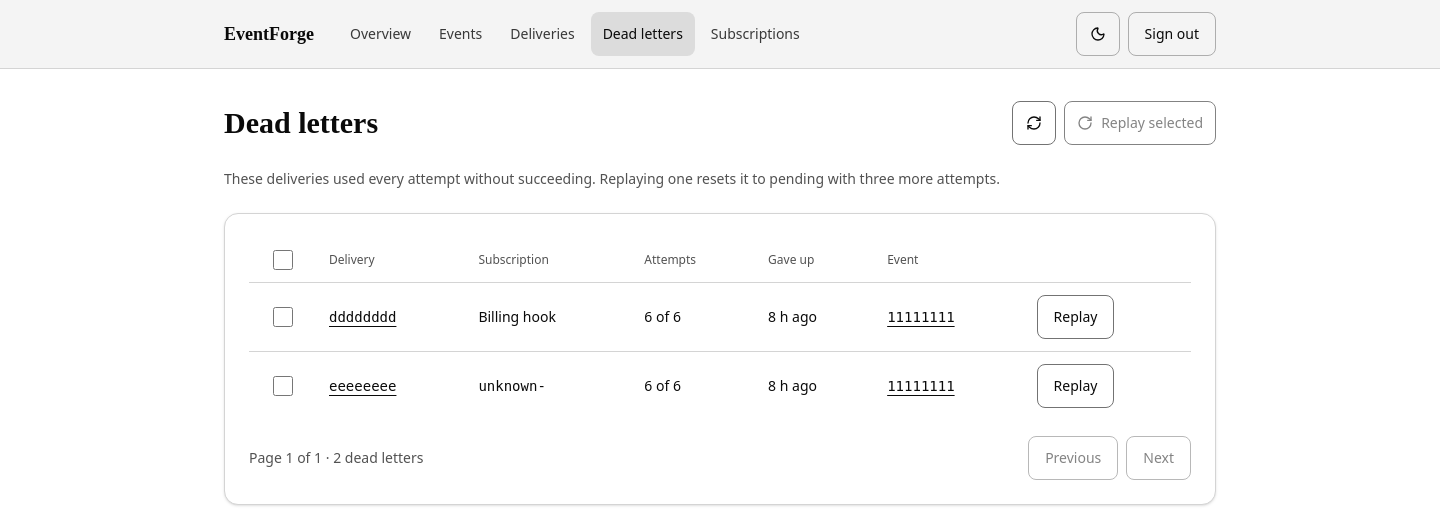
Test case: Replaying a selection › toggles a single row
Click the checkbox named "Select delivery eeeeeeee" at (283, 386), box [273,376,293,396]
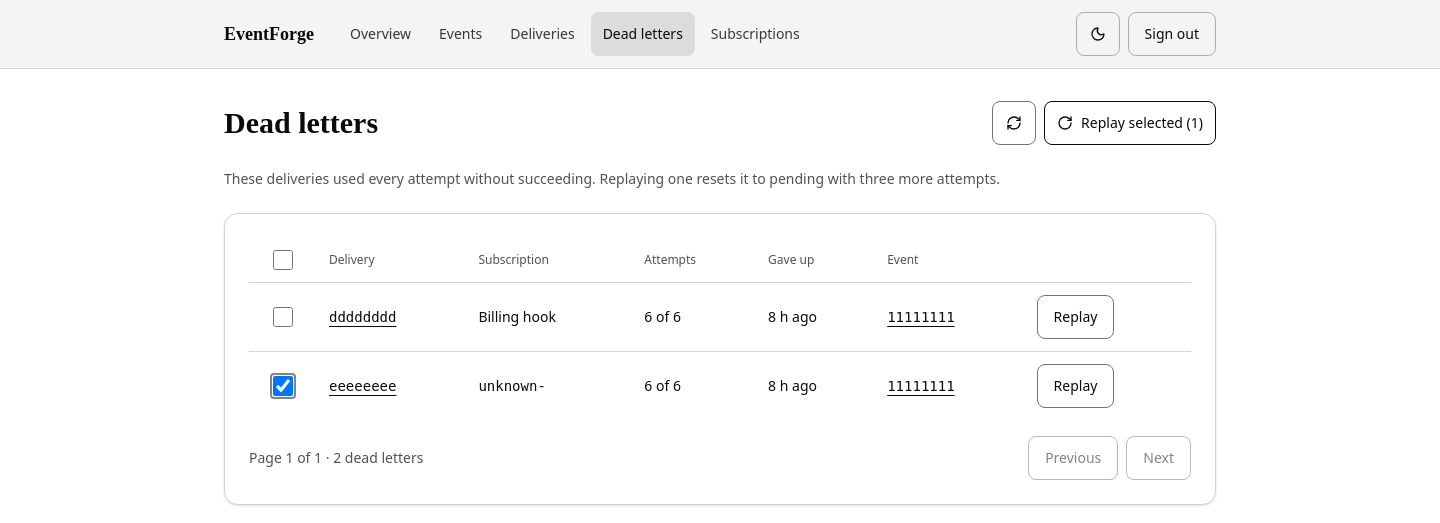
Expected: the button "Replay selected (1)" is enabled, [1044,101,1216,145]
Click the checkbox named "Select delivery eeeeeeee" at (283, 386), box [273,376,293,396]
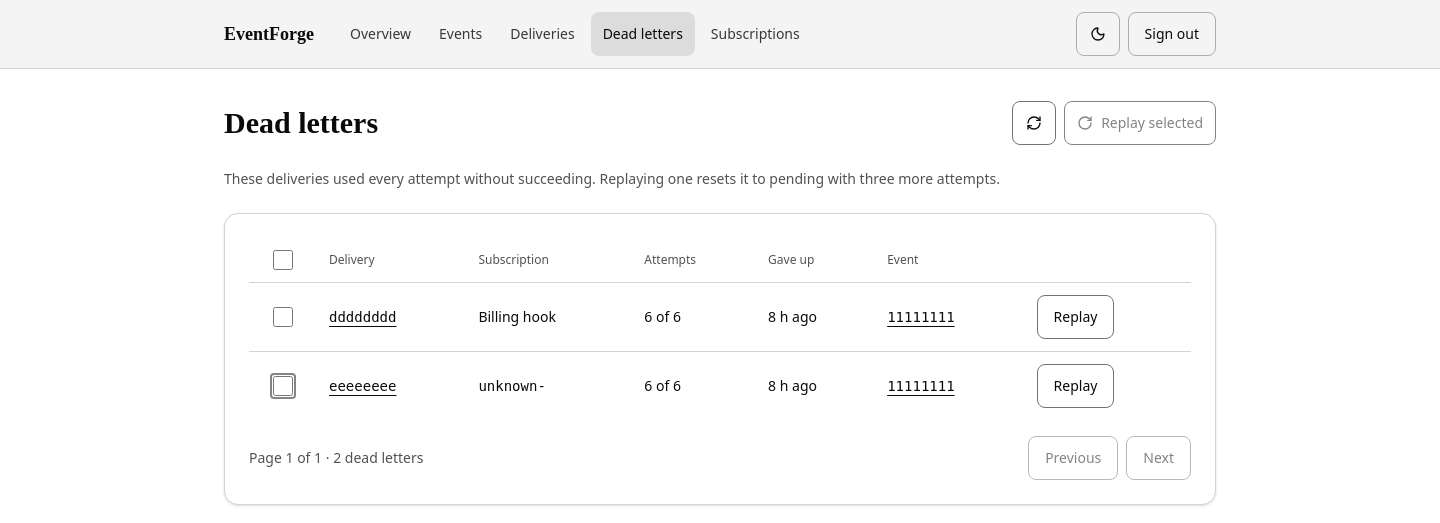
Expected: the button "Replay selected" is disabled, [1064,101,1216,145]
